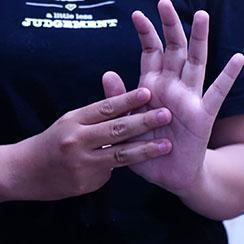M: (56, 0, 244, 239)
